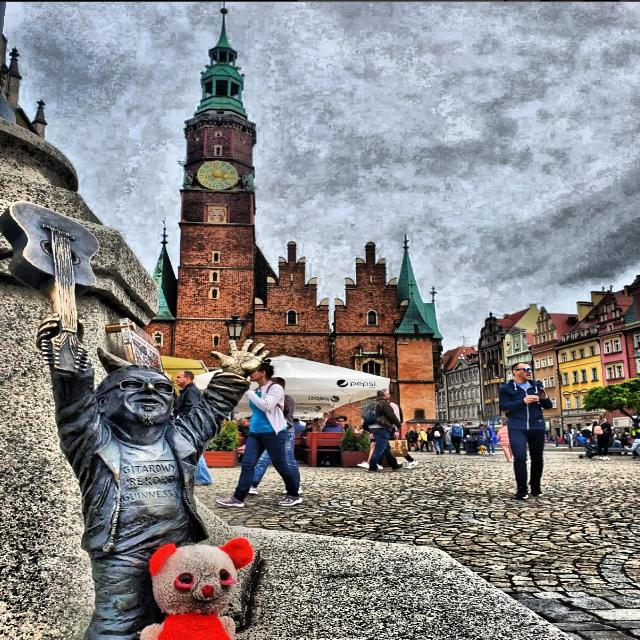Leszko_z_Wroclawia: (0, 200, 269, 640)
